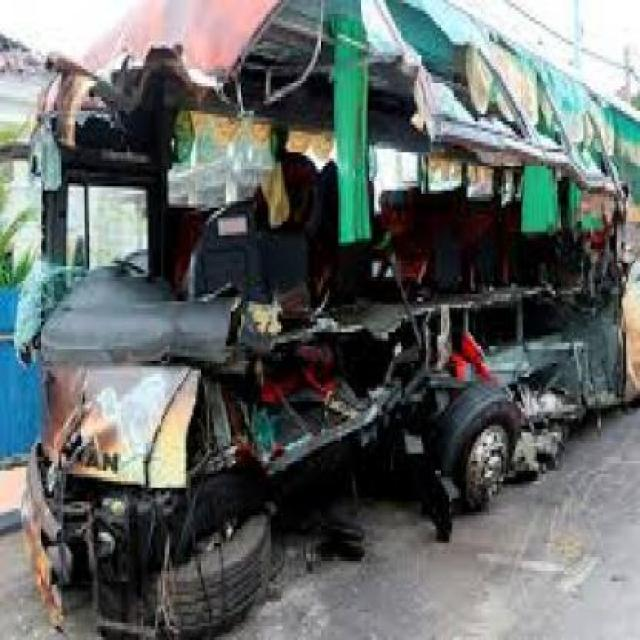accident: (11, 5, 640, 638)
